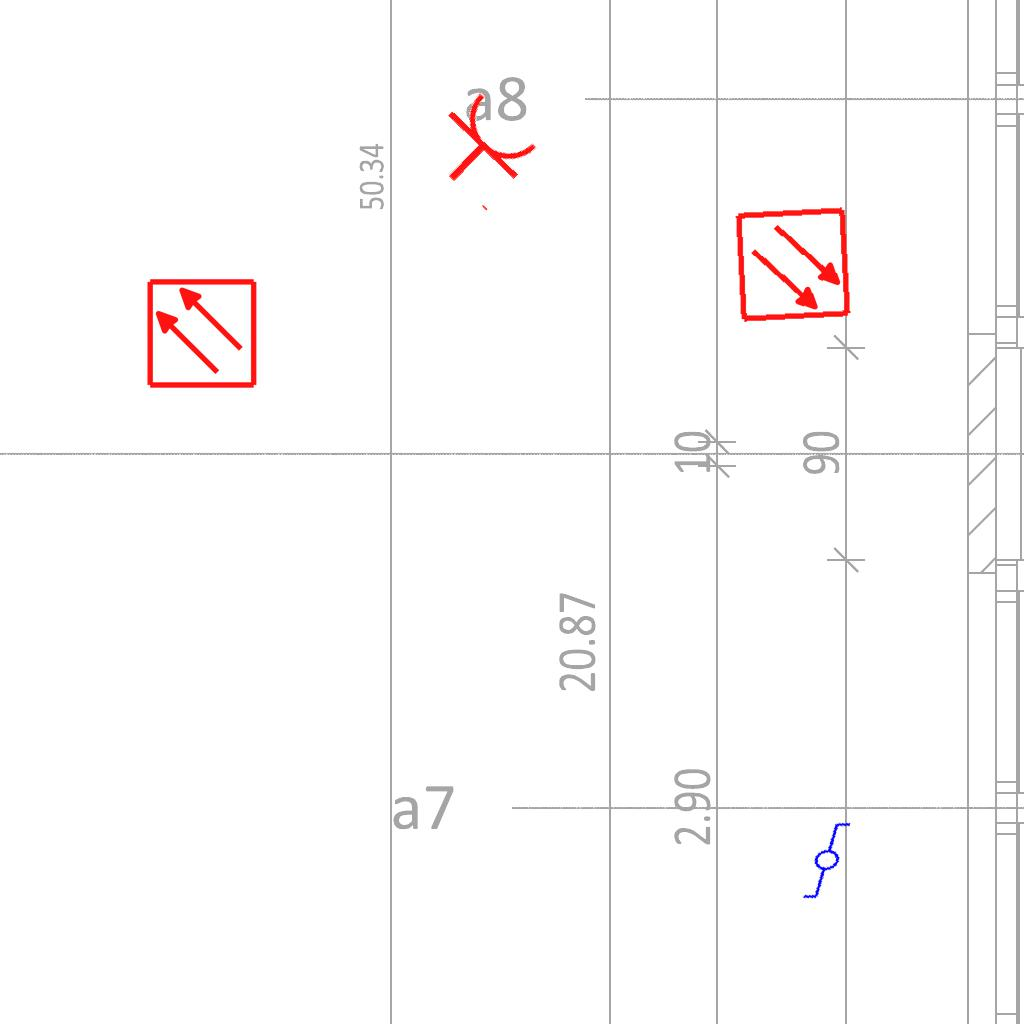RMO_Rauchmelder_optischer: (734, 205, 853, 324), (145, 277, 258, 390)
Schukosteckdose_einfach: (415, 83, 548, 217)
Wechselschalter: (783, 814, 879, 906)
